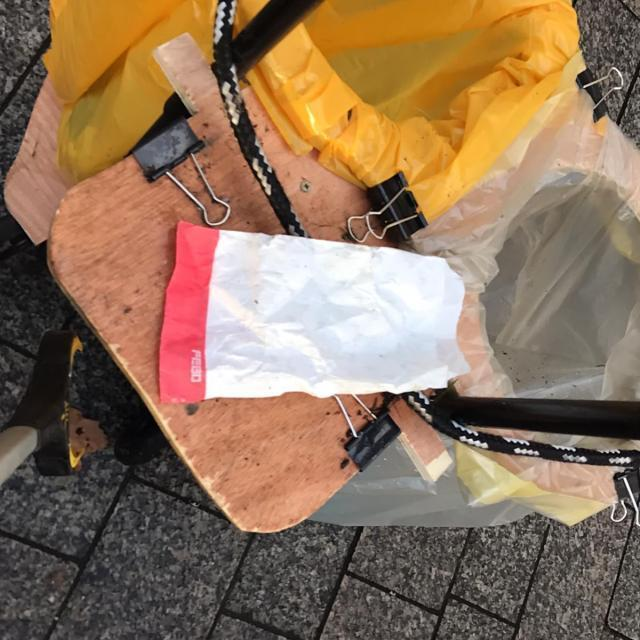Paper: (156, 219, 470, 401)
